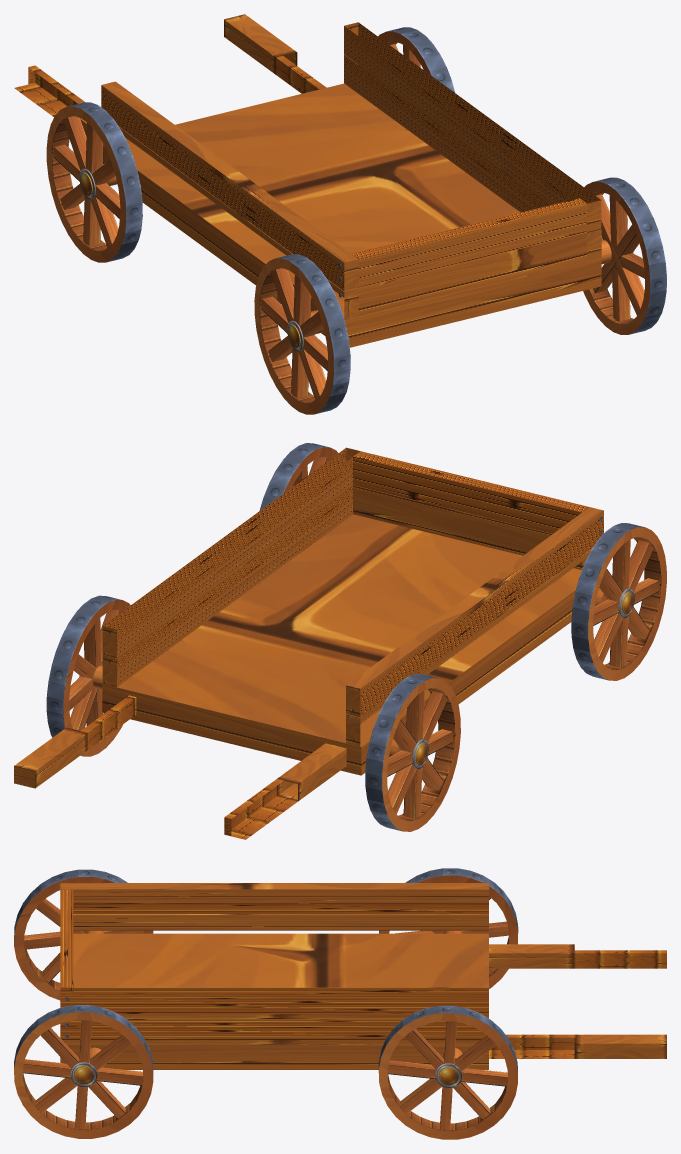
File: Telega.fbx
3 views of the same model, one above another, from view 1: azimuth 30°, elevation 25°; view 2: azimuth 150°, elevation 25°; view 3: azimuth 270°, elevation 25° (orthographic). The views are drawn at different scales.
Parts seen in each view (by area): view 1: Cube.001, Cube.019, Cube.015, Cube.004, Cube.021, Cube.003, Cube.006, Cube.007, Cube.002, Cube, Cube.012, Cube.005 (+1 smaller); view 2: Cube.001, Cube.019, Cube.015, Cube.004, Cube.021, Cube.006, Cube.002, Cube.012, Cube.007, Cube.008, Cube, Cube.003 (+1 smaller); view 3: Cube.001, Cube.004, Cube.021, Cube.003, Cube.012, Cube.002, Cube.005, Cube.015, Cube, Cube.008, Cube.019, Cube.006.
Boxes of the visible parts, x1,y1,x2,y2 form: Cube.001: [103, 83, 601, 347]; Cube.019: [46, 102, 142, 262]; Cube.015: [254, 254, 350, 414]; Cube.004: [101, 81, 358, 291]; Cube.021: [344, 22, 601, 231]; Cube.003: [583, 177, 666, 334]; Cube.006: [351, 198, 586, 287]; Cube.007: [358, 232, 586, 316]; Cube.002: [344, 54, 601, 260]; Cube: [224, 14, 326, 93]; Cube.012: [378, 27, 455, 92]; Cube.005: [118, 126, 358, 320]; Cube.001: [102, 514, 599, 775]; Cube.019: [365, 674, 460, 831]; Cube.015: [571, 523, 666, 680]; Cube.004: [346, 507, 603, 717]; Cube.021: [102, 447, 360, 657]; Cube.006: [353, 451, 589, 533]; Cube.002: [102, 485, 352, 686]; Cube.012: [46, 595, 130, 756]; Cube.007: [353, 485, 586, 569]; Cube.008: [224, 743, 346, 839]; Cube: [14, 695, 136, 788]; Cube.003: [259, 443, 338, 510]; Cube.001: [60, 933, 488, 1069]; Cube.004: [60, 883, 488, 914]; Cube.021: [60, 987, 488, 1018]; Cube.003: [14, 1005, 153, 1138]; Cube.012: [378, 1006, 517, 1139]; Cube.002: [60, 1019, 486, 1044]; Cube.005: [73, 914, 488, 930]; Cube.015: [14, 869, 153, 1000]; Cube: [489, 1034, 666, 1058]; Cube.008: [489, 944, 666, 968]; Cube.019: [379, 868, 518, 988]; Cube.006: [60, 889, 73, 993].
Bounding box in the file's own units: 698 × 291 × 1335.
